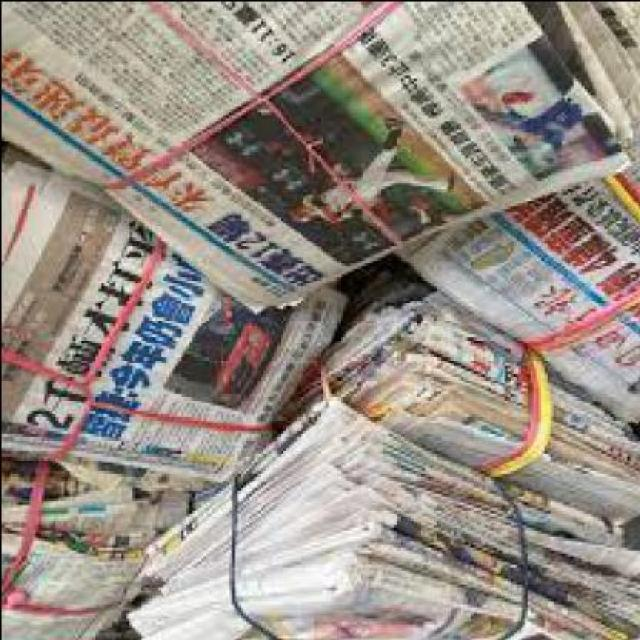PAPER: (3, 3, 639, 639), (3, 2, 634, 313), (3, 142, 345, 489), (142, 402, 638, 578), (270, 289, 638, 517), (390, 110, 638, 428), (127, 530, 638, 638), (2, 466, 143, 639)
